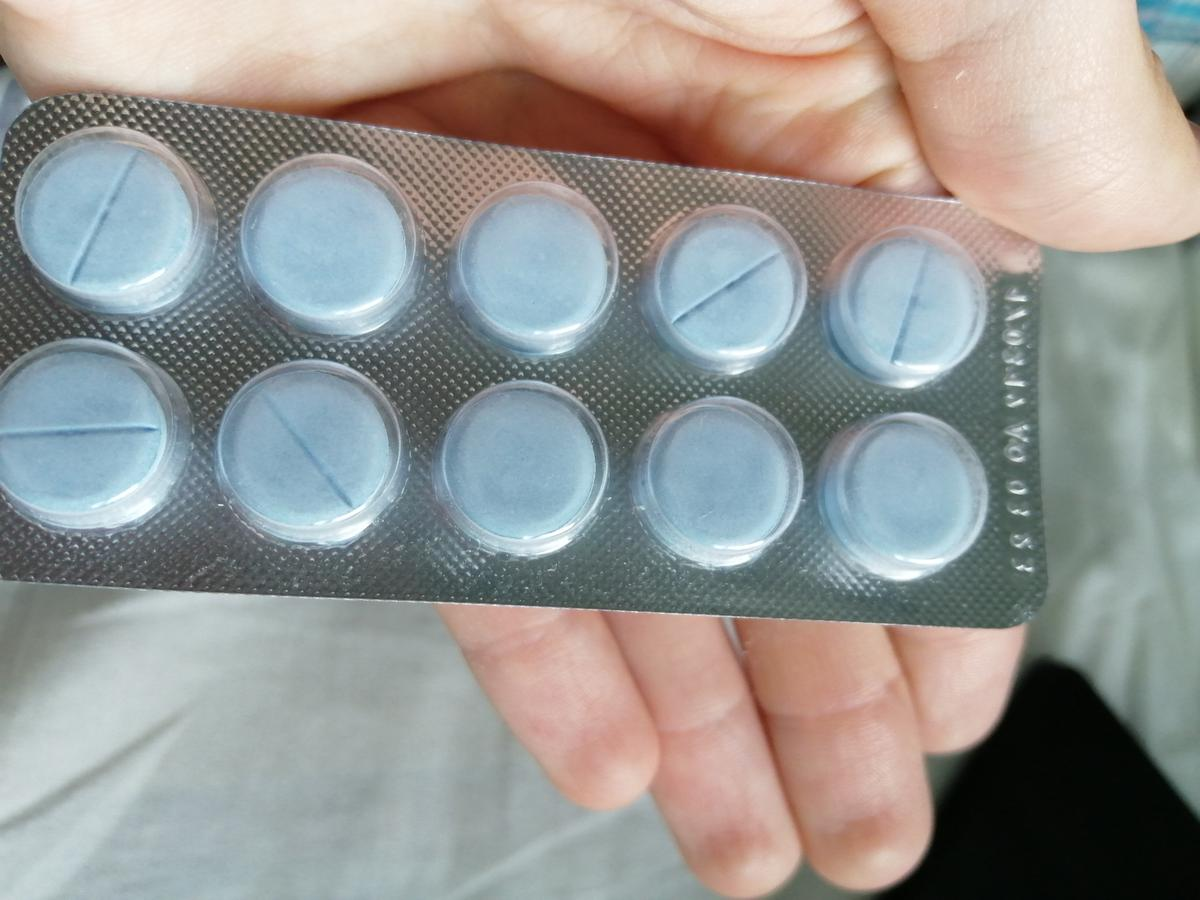tablet: (11, 127, 213, 311), (213, 362, 411, 539), (1, 337, 179, 531), (442, 378, 607, 558), (246, 154, 417, 325), (642, 401, 801, 576), (456, 184, 621, 352), (648, 203, 809, 370), (832, 407, 981, 582), (834, 225, 991, 390)
